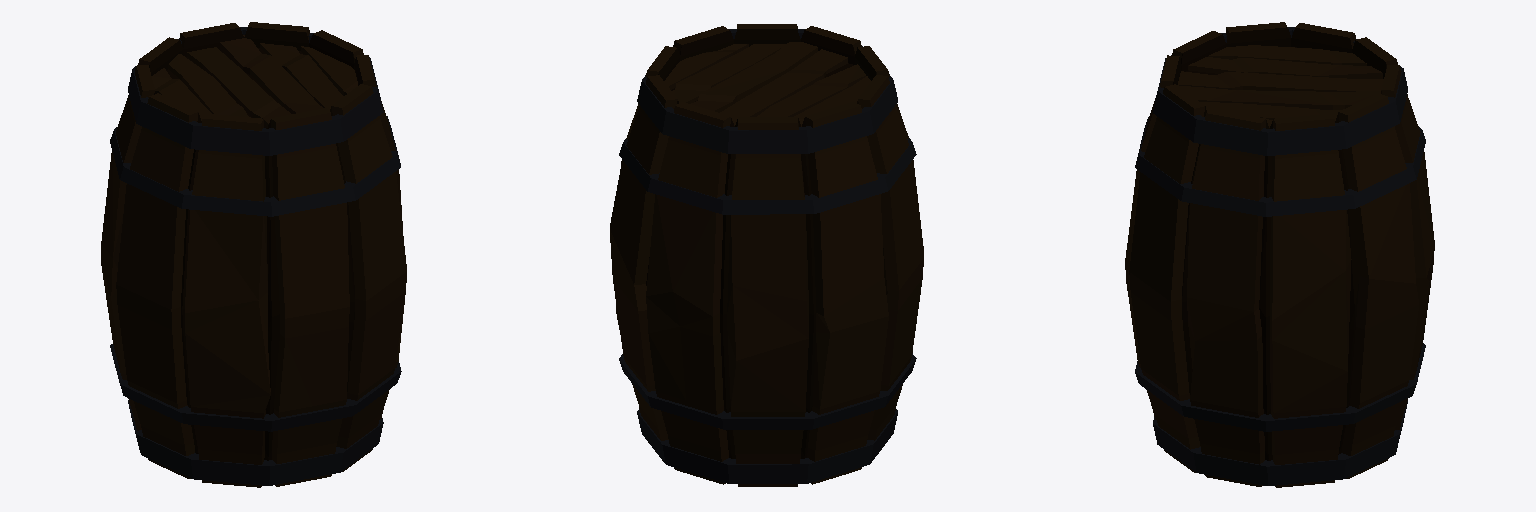
File: Barrel.obj
3 views of the same model, side by side, from view 1: azimuth 30°, elevation 25°; view 2: azimuth 150°, elevation 25°; view 3: azimuth 270°, elevation 25° (orthographic).
Visible parts, largest first — view 1: Barrel.001; view 2: Barrel.001; view 3: Barrel.001.
Boxes of the visible parts, box(x1,y1,x2,y2) form: Barrel.001: box(101, 22, 406, 487); Barrel.001: box(610, 24, 923, 486); Barrel.001: box(1125, 22, 1434, 487).
Size of the model in its own units: 0.8314 by 1.07 by 0.8241.